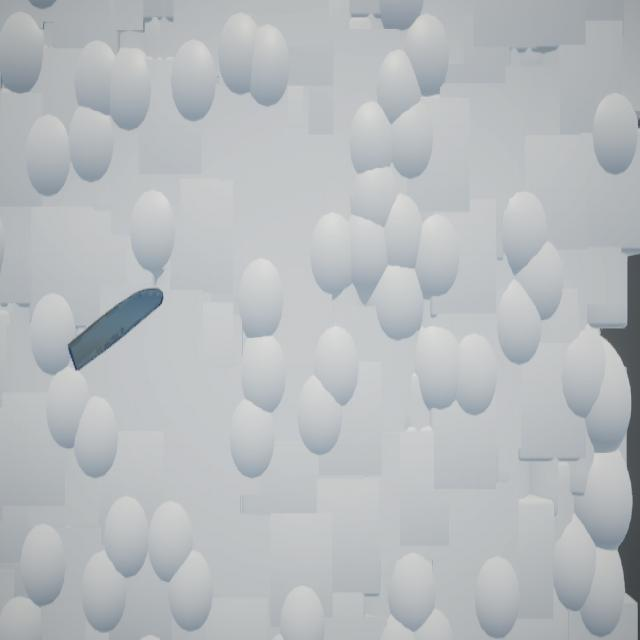top_knife: (69, 288, 165, 372)
